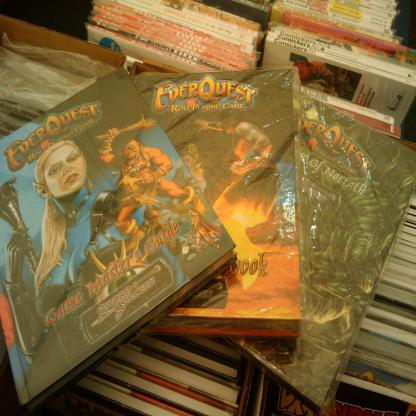book: (3, 89, 236, 384), (229, 87, 415, 415), (133, 69, 298, 338), (262, 0, 416, 124), (62, 326, 245, 416), (86, 0, 271, 82)
